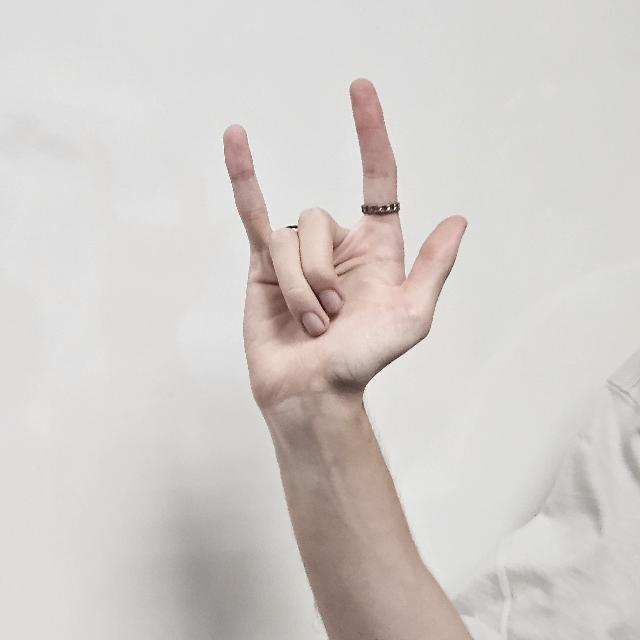Cima: (224, 73, 466, 400)
